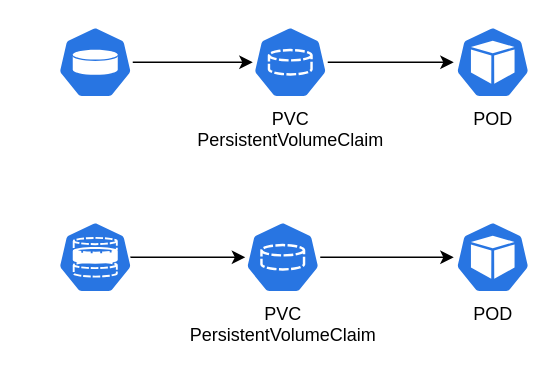
Image size: 557x374. Some labels were removed from this diagram. The shapes that lost their labels are listed below. From the top down, each one's box as (x1, y1, x2, y2) in pixels, then its label:
(56, 25, 133, 98): PV PersistentVolume
(56, 220, 133, 293): SC StorageClass
